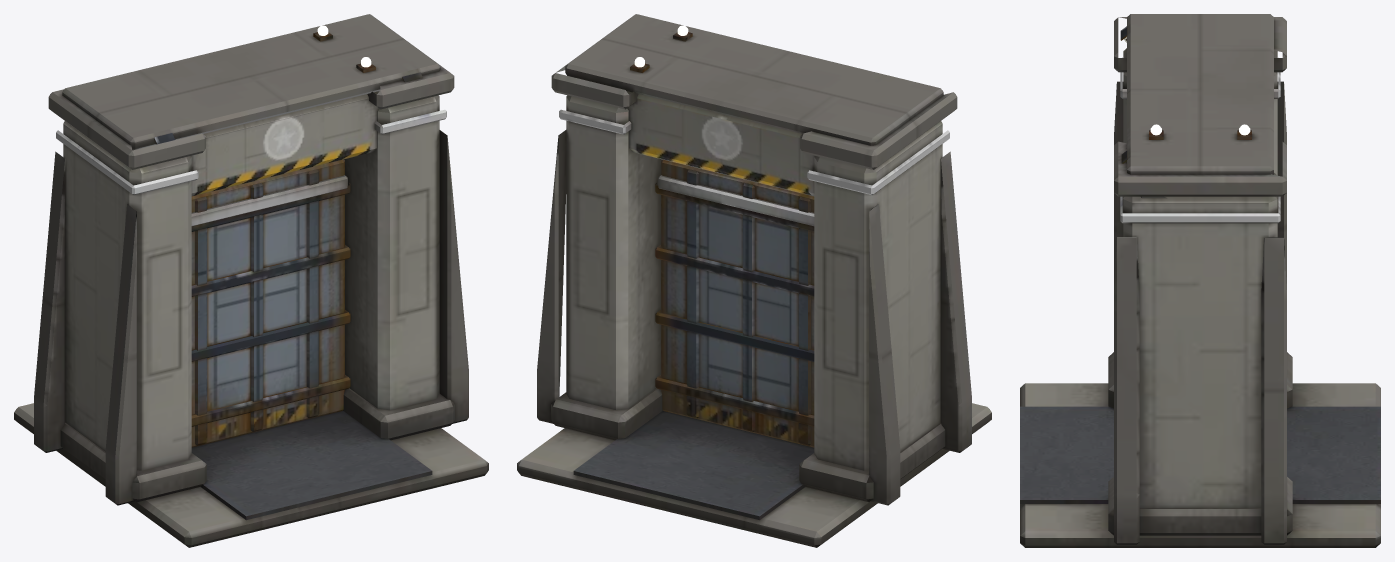
File: gate.allies.glb
The picture shows the model from 3 angles, left to right: view 1: azimuth 30°, elevation 25°; view 2: azimuth 150°, elevation 25°; view 3: azimuth 270°, elevation 25°; orthographic projection. The views are drawn at different scales.
Parts seen in each view (by area): view 1: gate_mesh, door_mesh, root_mesh; view 2: gate_mesh, door_mesh, root_mesh; view 3: gate_mesh, root_mesh.
Boxes of the visible parts, box(x1,y1,x2,y2) form: gate_mesh: box(34, 14, 468, 520); door_mesh: box(191, 159, 350, 447); root_mesh: box(14, 403, 488, 547); gate_mesh: box(537, 14, 971, 520); door_mesh: box(655, 159, 814, 447); root_mesh: box(517, 403, 991, 547); gate_mesh: box(1020, 14, 1380, 544); root_mesh: box(1020, 383, 1380, 547).
Bounding box in the file's own units: 1.14 × 1.19 × 0.98.
Materials: 2 (1 with a texture image).
